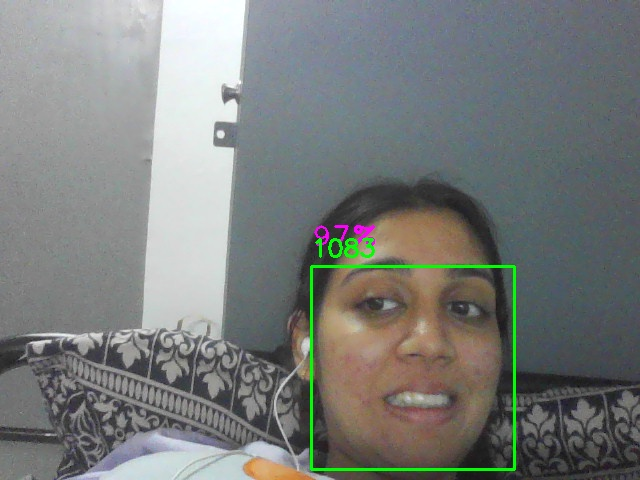real: (311, 266, 515, 470)
